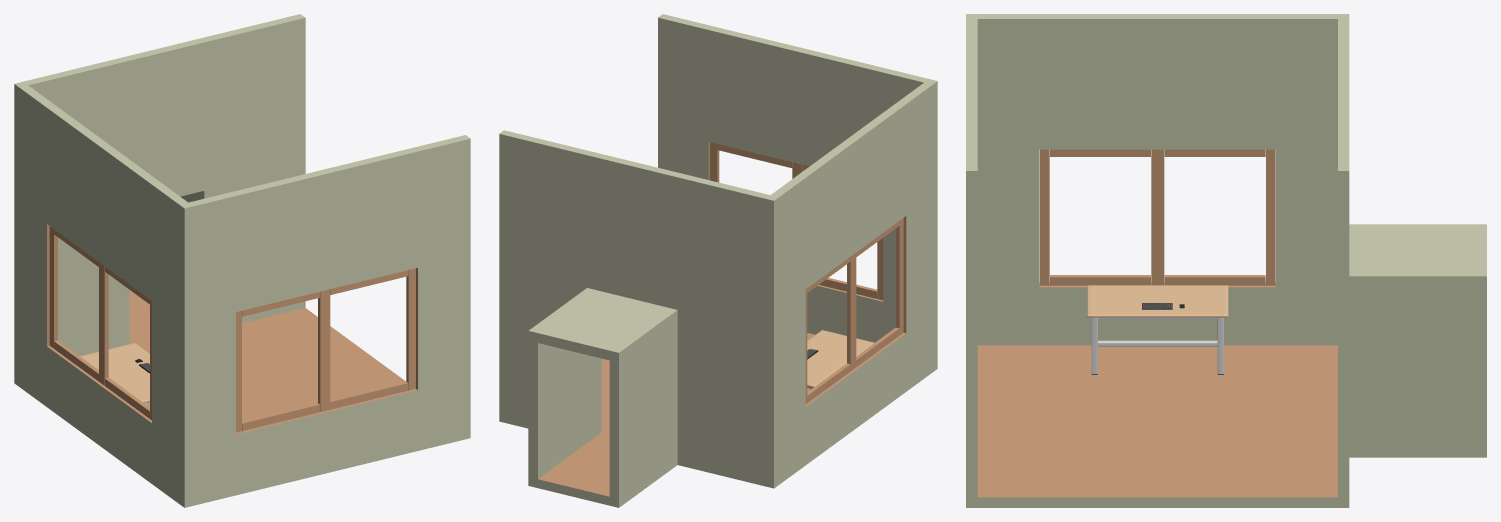
Rendered from Room.glb.
3 renders of one model, left to right at view 1: azimuth 30°, elevation 25°; view 2: azimuth 150°, elevation 25°; view 3: azimuth 270°, elevation 25°, orthographic. The views are drawn at different scales.
Parts seen in each view (by area): view 1: Walls, Window.001, Window, Desk; view 2: Walls, Window, Window.001, Desk; view 3: Walls, Window, Desk.
Part boxes in pixels (x1,y1,x2,y2): Walls: (14, 14, 470, 507); Window.001: (236, 268, 415, 432); Window: (49, 226, 151, 420); Desk: (80, 343, 149, 405); Walls: (499, 14, 937, 507); Window: (805, 218, 903, 403); Window.001: (710, 142, 883, 300); Desk: (807, 330, 874, 389); Walls: (966, 14, 1486, 507); Window: (1040, 149, 1275, 285); Desk: (1087, 285, 1228, 374).
Bounding box in the file's own units: 2.05 × 2.05 × 2.88.
